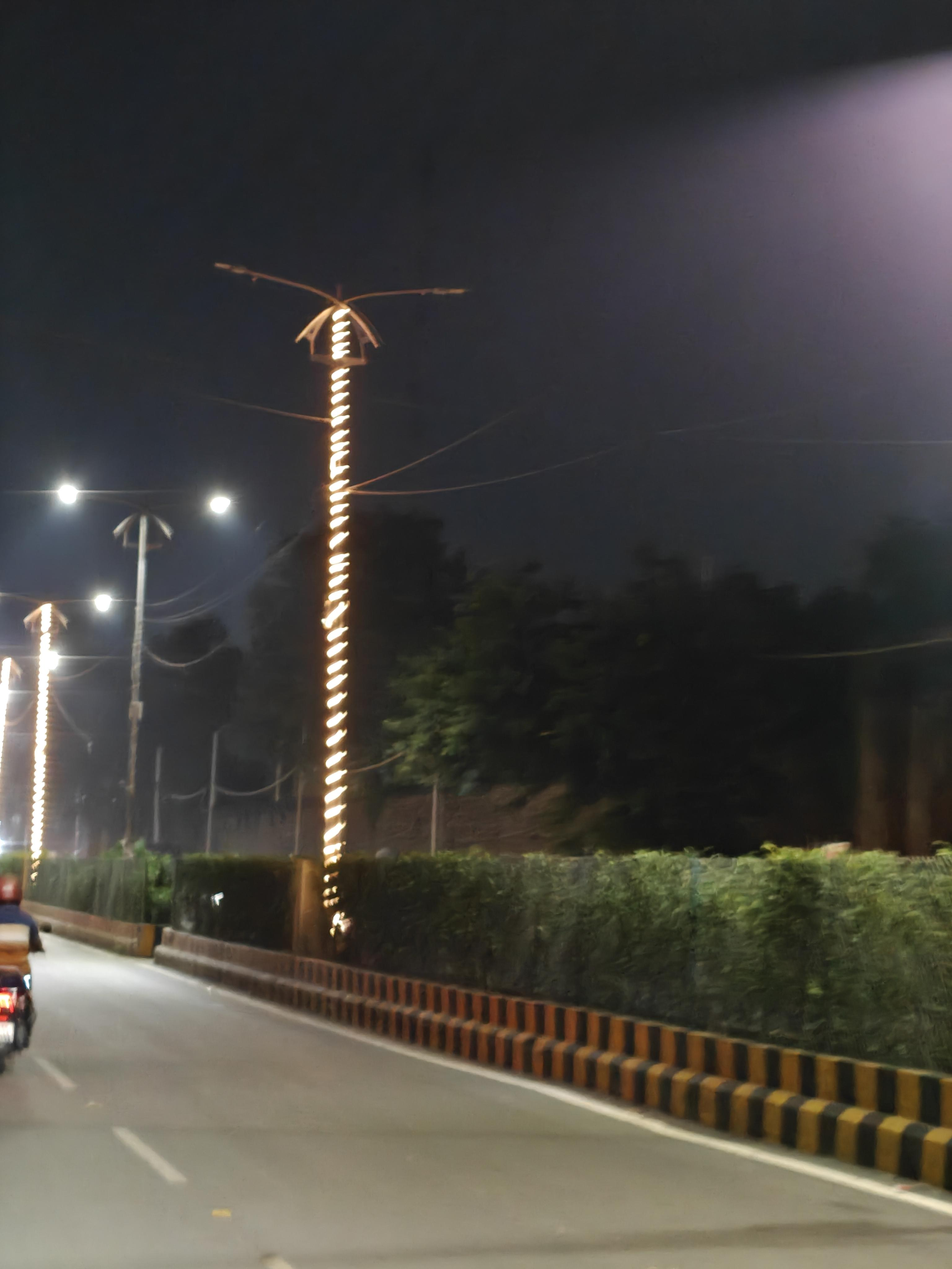streetlight: (213, 259, 329, 300), (368, 284, 470, 298)
